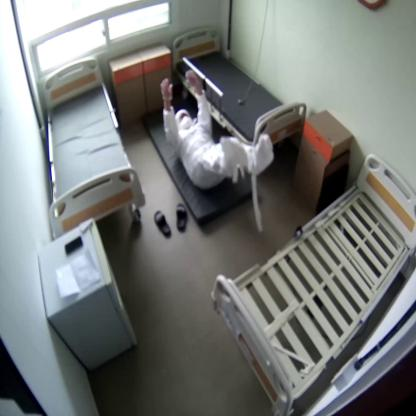Bed: (173, 28, 307, 142)
Person: (160, 68, 274, 187)
